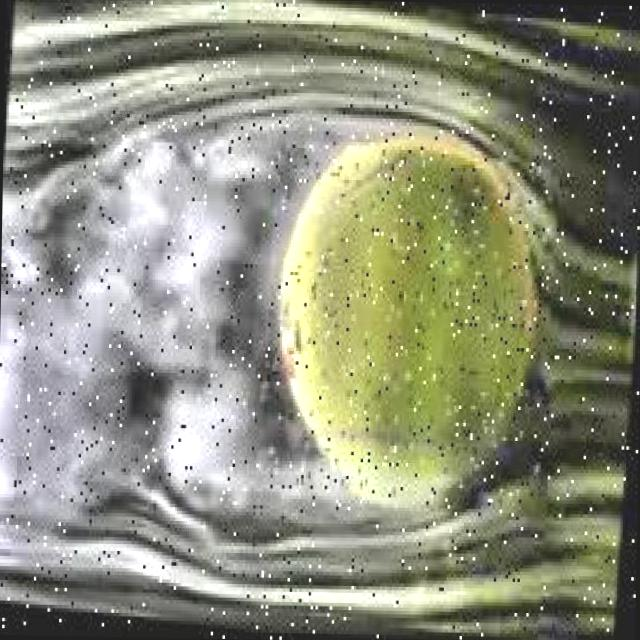Tennis Ball: (254, 138, 561, 515)
